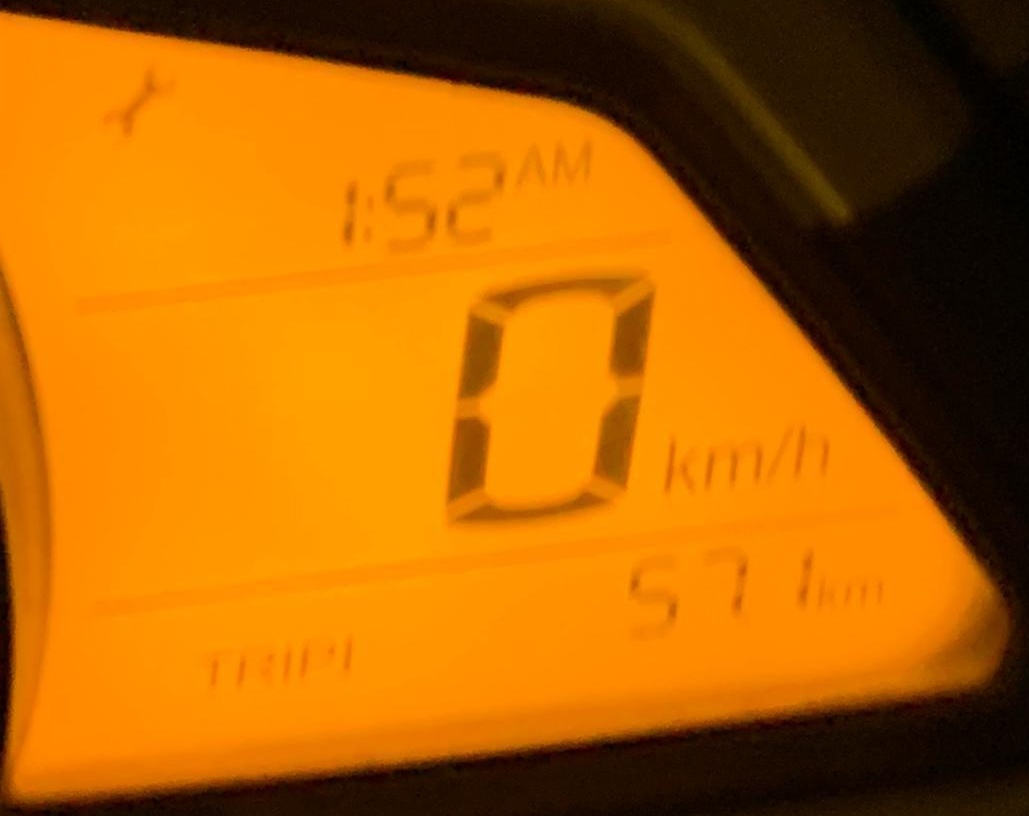0: (436, 264, 641, 526)
1: (787, 541, 818, 621), (336, 168, 360, 255)
2: (446, 150, 506, 246)
5: (383, 161, 437, 253), (627, 550, 685, 634)
7: (705, 538, 756, 620)
X: (704, 437, 763, 491), (654, 429, 698, 495), (795, 412, 836, 479), (299, 630, 337, 693), (234, 634, 273, 691), (191, 636, 229, 692), (550, 137, 594, 185), (764, 416, 793, 478), (514, 140, 549, 189), (843, 574, 886, 609), (277, 632, 298, 692), (818, 575, 843, 609)
